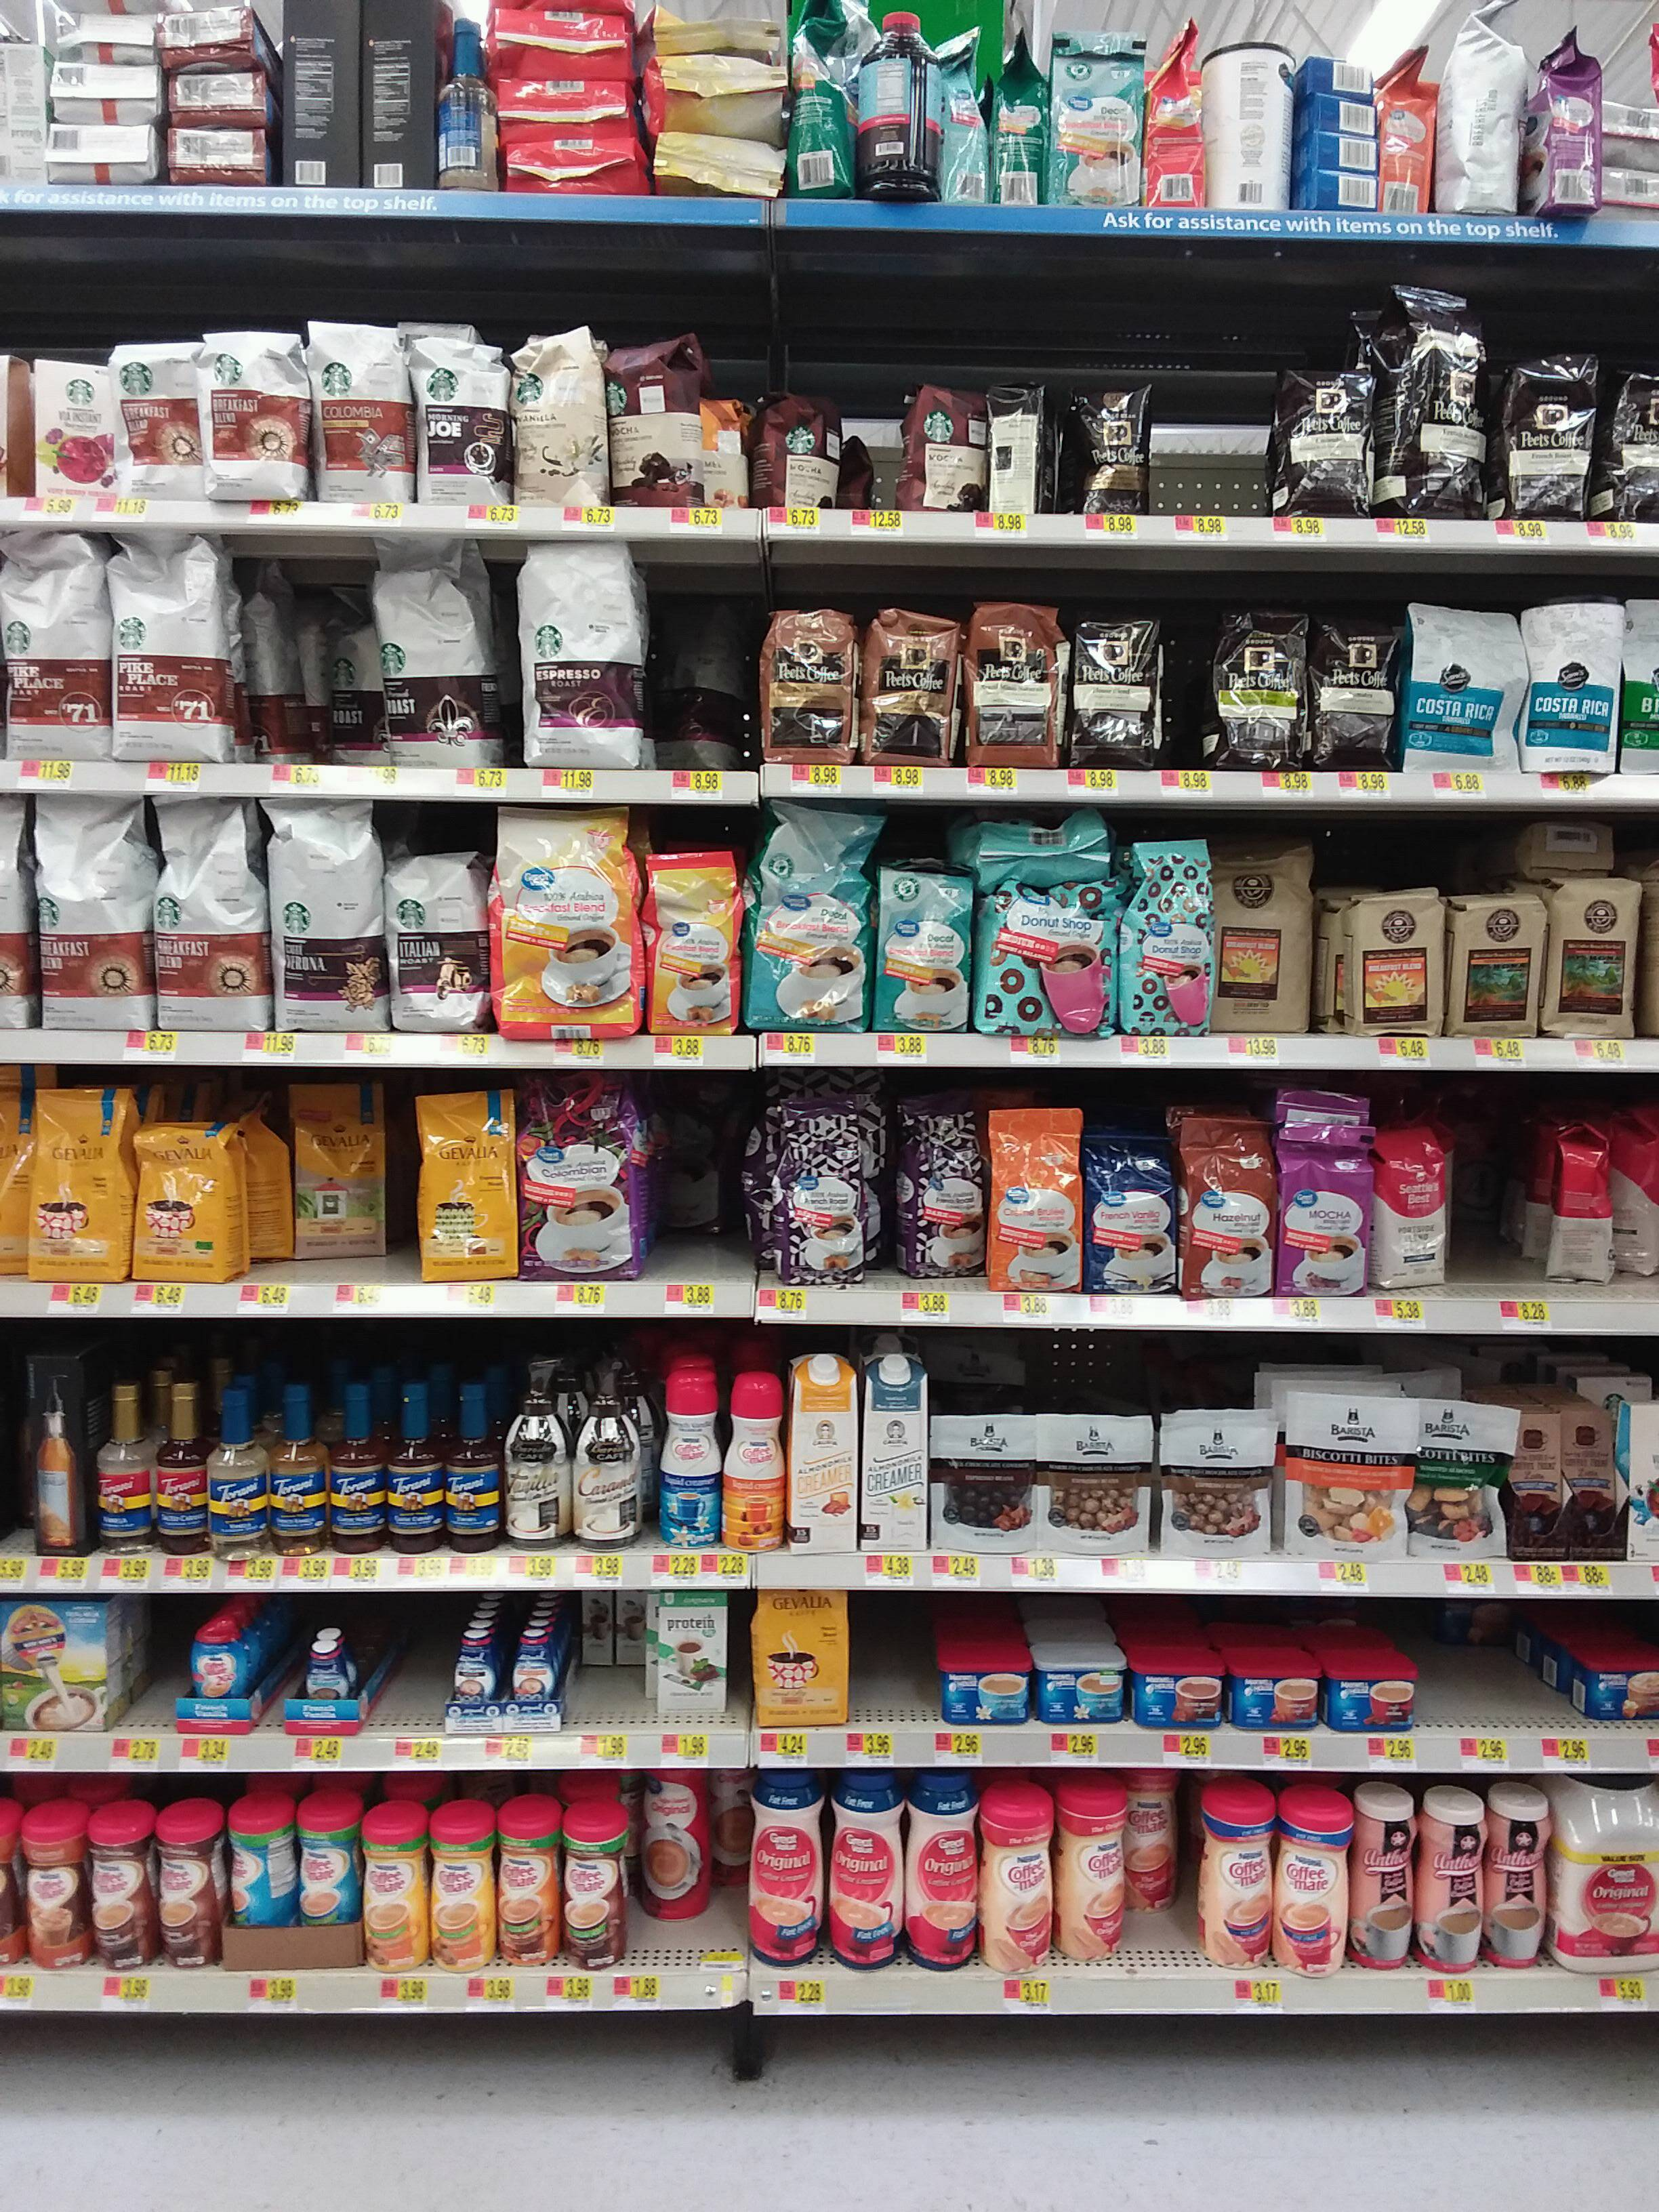Misplacement: (647, 549, 756, 770)
Out-of-stock: (847, 1592, 945, 1723)
